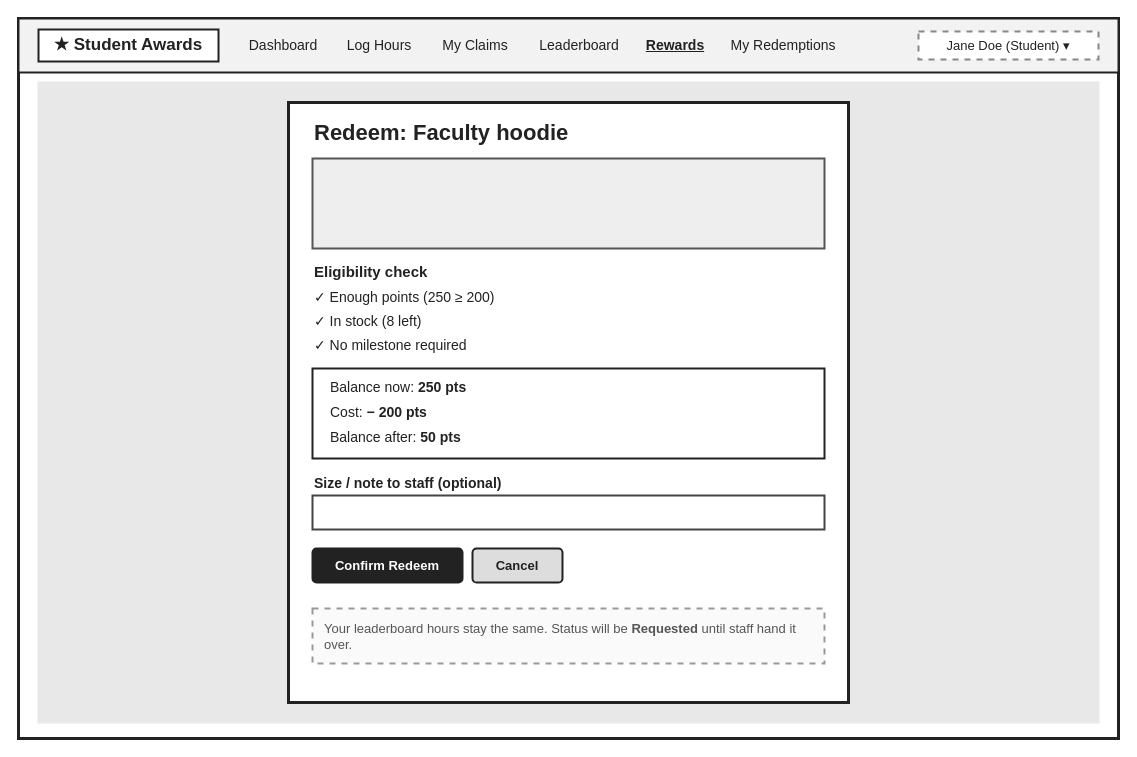
Some shapes in this 1137 by 757 pixel diagram are drawn without their labels. The shapes that lost their labels are listed below. From the top down, each one's centre as x and y in pixels, then its label:
the point at 568,203: [ image ]
the point at 568,512: e.g. Size M
